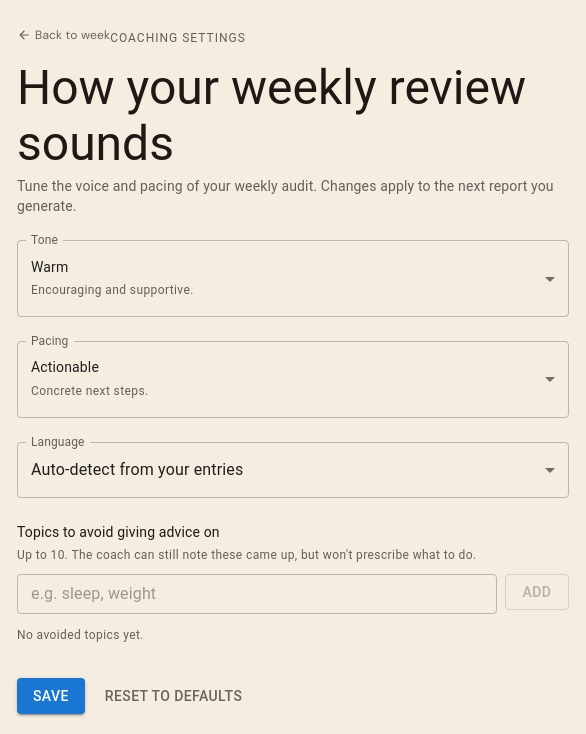
Test: SettingsPage › renders per-field validation errors when the API throws PreferencesValidationError
The image size is (586, 734).
Expected: the heading "How your weekly review sounds" is shown, [17, 60, 569, 172]
Step 1. Click the button "Save" → (51, 696), box [17, 678, 85, 714]
(page scrolled)
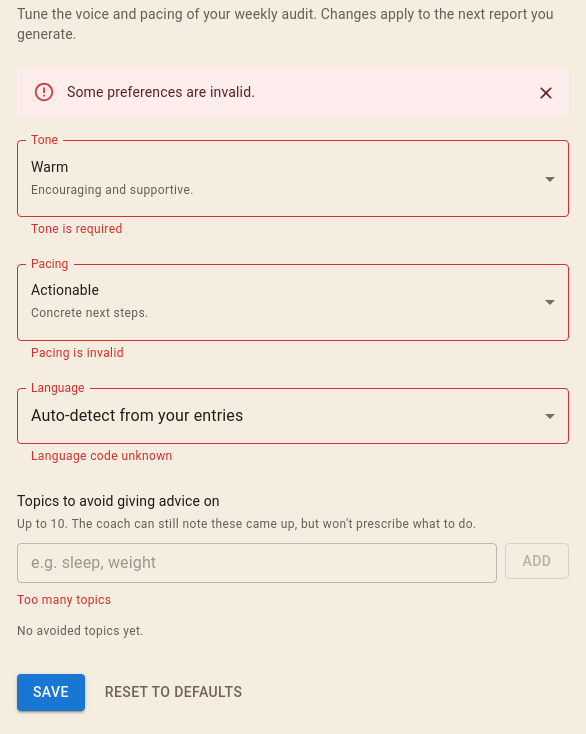
Expected: the text "Some preferences are invalid." is shown, [67, 84, 255, 100]
Expected: the text "Tone is required" is shown, [31, 222, 123, 236]
Expected: the text "Pacing is invalid" is shown, [31, 346, 124, 360]
